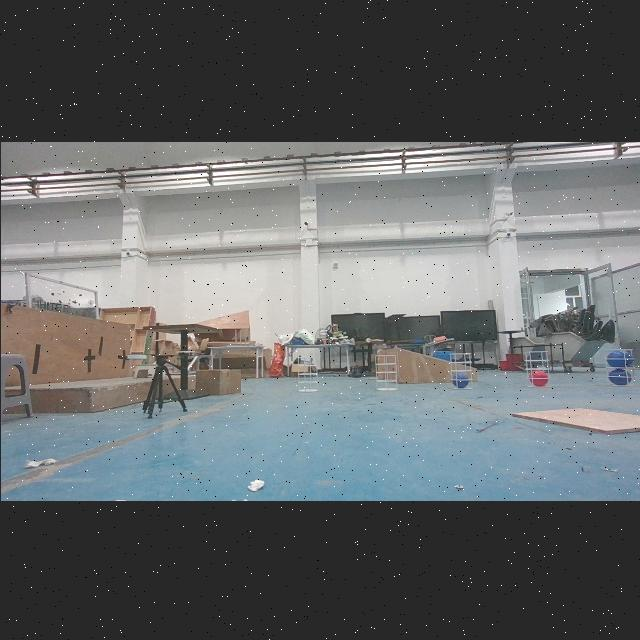B: (606, 349, 632, 367), (608, 367, 630, 383), (449, 372, 468, 386)
R: (526, 370, 548, 386)
S: (601, 346, 637, 388), (521, 346, 551, 389), (445, 350, 475, 390), (372, 351, 400, 391), (294, 353, 320, 393)
